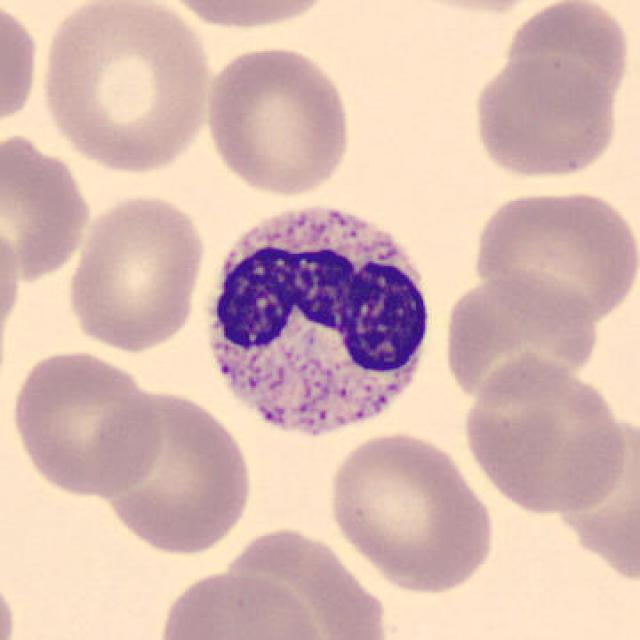Neutrophil: (192, 192, 446, 455)
RBC: (35, 0, 217, 178), (90, 384, 258, 559), (323, 429, 500, 594), (459, 353, 633, 520), (7, 346, 169, 500), (62, 189, 210, 354), (201, 41, 355, 199), (469, 185, 640, 326), (439, 268, 601, 409), (468, 55, 624, 182), (222, 529, 394, 640), (500, 0, 634, 120), (0, 127, 94, 286), (562, 420, 640, 589), (153, 567, 329, 640), (152, 0, 341, 33), (0, 0, 41, 139), (0, 208, 25, 374), (386, 0, 556, 16), (0, 562, 21, 639)
